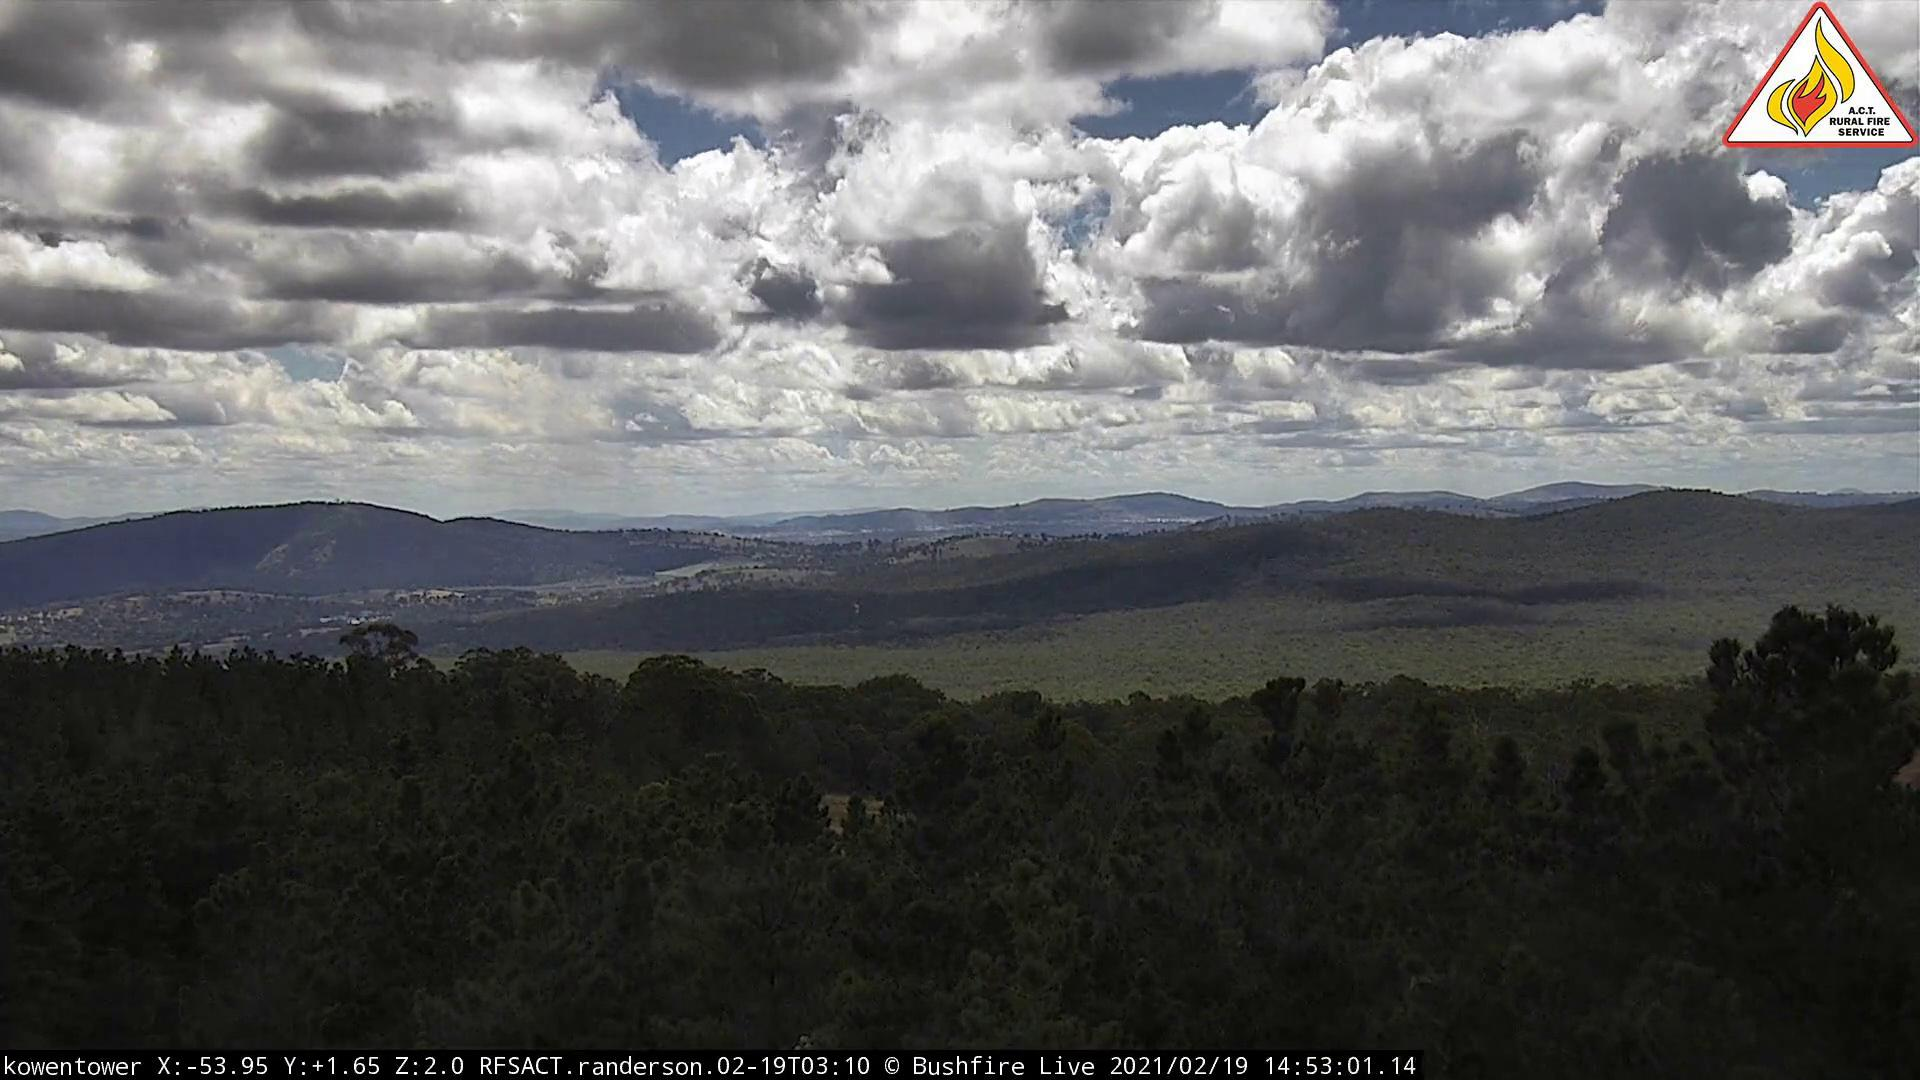Smoke: (546, 422, 967, 547)
